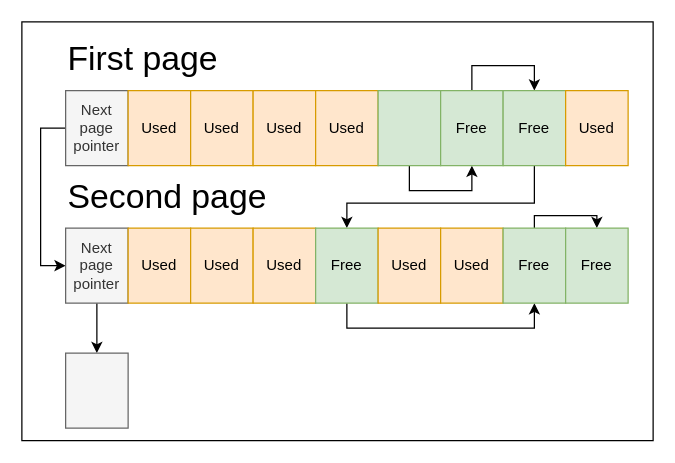
Image size: 675x463. Some labels were removed from this diagram. The box of each missing label's shape, as (x1, y1, x2, y2) in pixels:
First free block: (377, 89, 441, 166)
nullptr: (64, 352, 128, 428)
